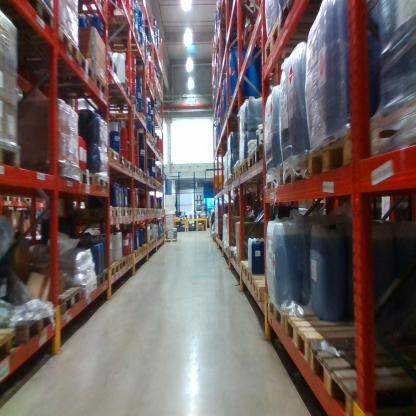pallet: (312, 341, 411, 414), (287, 316, 386, 381), (261, 19, 345, 91), (2, 48, 97, 87), (368, 83, 415, 160), (307, 127, 369, 184), (270, 291, 343, 335), (19, 73, 110, 106), (7, 1, 62, 51), (99, 87, 156, 129), (13, 308, 55, 350), (40, 285, 82, 324), (10, 162, 81, 183), (277, 2, 337, 26), (91, 11, 139, 40), (252, 268, 289, 301), (62, 203, 120, 224), (281, 150, 311, 187), (56, 18, 76, 65), (99, 93, 140, 114), (2, 137, 25, 174), (0, 327, 19, 370), (238, 160, 275, 177), (246, 263, 272, 287), (109, 46, 145, 63), (265, 161, 283, 194), (243, 155, 274, 174), (237, 256, 261, 280), (103, 81, 133, 100), (233, 168, 266, 185), (91, 170, 113, 195), (253, 140, 267, 170), (76, 165, 96, 186), (111, 256, 129, 276), (94, 267, 107, 293), (116, 252, 133, 271), (108, 145, 122, 168), (235, 250, 247, 272), (124, 154, 134, 177), (117, 149, 127, 171), (114, 206, 126, 223), (107, 265, 118, 282), (13, 192, 24, 208), (0, 194, 14, 205), (226, 171, 233, 191), (132, 247, 143, 259), (126, 205, 134, 221), (132, 161, 138, 181), (22, 196, 34, 205), (165, 237, 178, 243), (131, 250, 139, 259)
